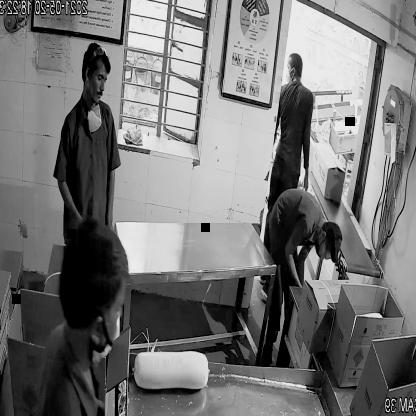no_goggles: (84, 66, 108, 88)
